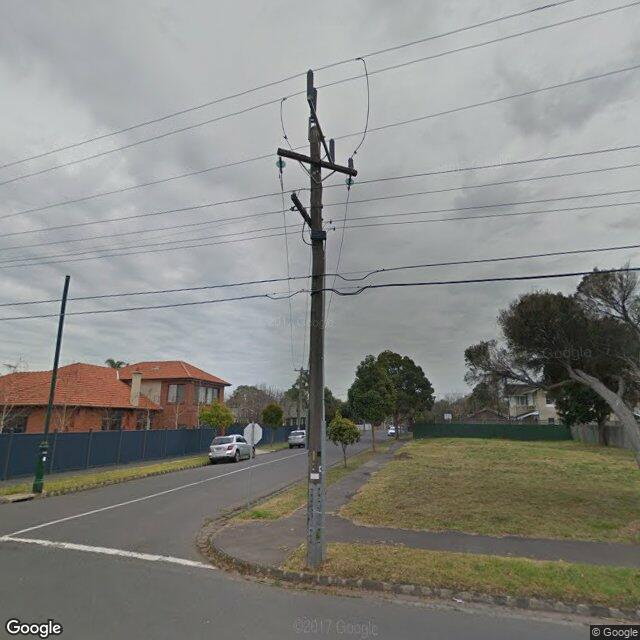HV-transmission: (275, 56, 370, 190)
crossarm: (277, 148, 357, 177), (306, 98, 333, 166), (291, 193, 311, 228)
steel-pole: (33, 275, 71, 492)
timber-pole: (307, 125, 326, 565)
